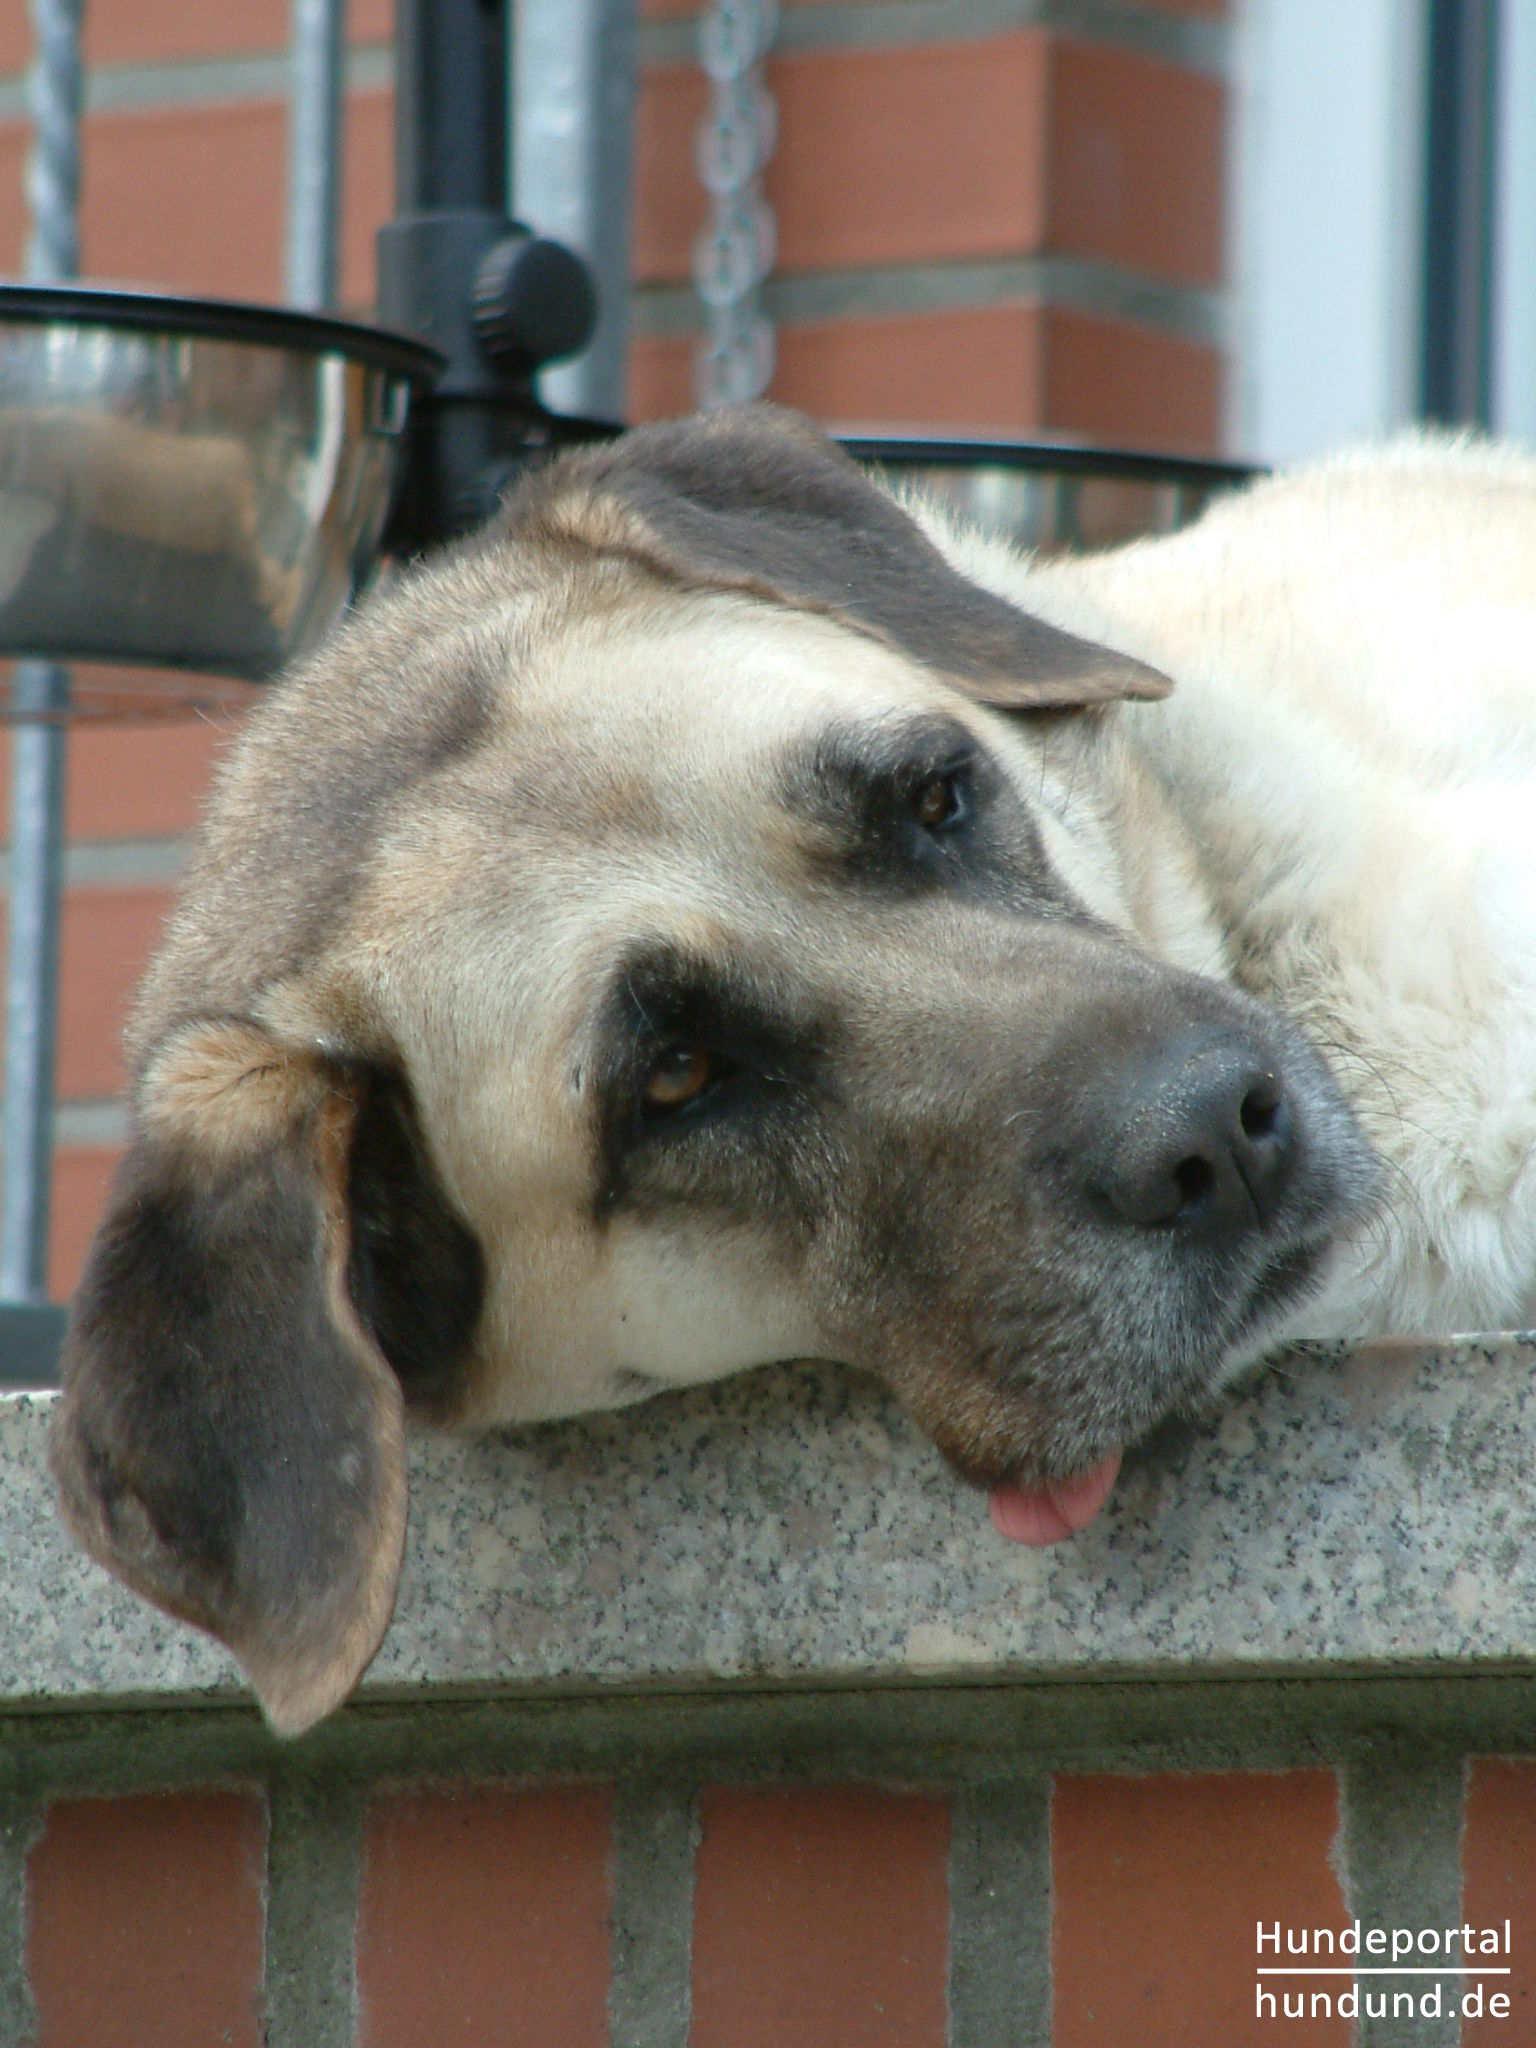kangal: (37, 395, 1536, 1738)
